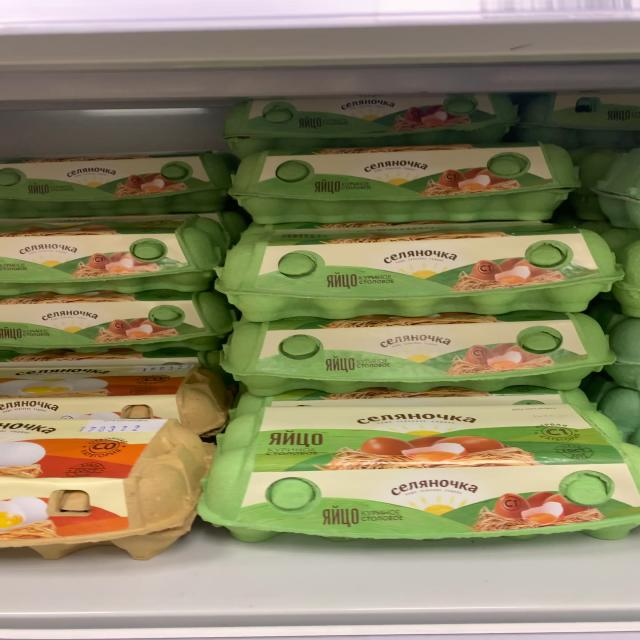egg box: (192, 390, 638, 541), (218, 224, 614, 327), (219, 306, 609, 396), (222, 144, 588, 227), (0, 220, 219, 300), (1, 153, 228, 214)
